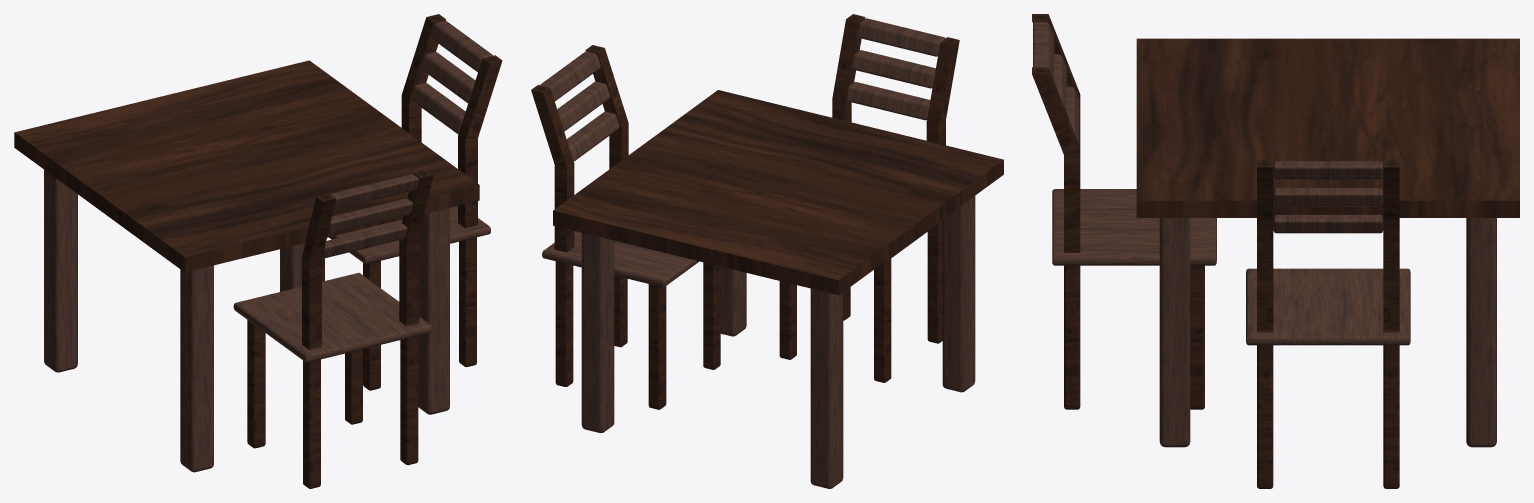
File: comedor.obj
3 views of the same model, side by side, from view 1: azimuth 30°, elevation 25°; view 2: azimuth 150°, elevation 25°; view 3: azimuth 270°, elevation 25° (orthographic). The views are drawn at different scales.
Visible parts, largest first — view 1: mesa, Plane.025, silla.002, Plane.022, Plane.023, Plane.027, Plane.026, Plane.030, Plane.024, silla.001; view 2: mesa, Plane.025, Plane.024, Plane.022, Plane.026, Plane.027, Plane.030, Plane.023, silla.001; view 3: mesa, Plane.025, silla.001, silla.002, Plane.030, Plane.027, Plane.024, Plane.022, Plane.023, Plane.026.
Part boxes in pixels (x1,y1,x2,y2): mesa: (14,60,479,272); Plane.025: (44,169,449,472); silla.002: (233,273,432,362); Plane.022: (247,320,418,488); Plane.023: (302,169,433,349); Plane.027: (401,14,502,228); Plane.026: (322,174,419,258); Plane.030: (411,21,492,134); Plane.024: (322,237,476,390); silla.001: (329,206,490,264); mesa: (553,90,1003,295); Plane.025: (581,196,975,488); Plane.024: (555,261,720,409); Plane.022: (779,221,942,382); Plane.026: (846,18,945,120); Plane.027: (531,45,628,252); Plane.030: (540,51,619,161); Plane.023: (832,14,959,145); silla.001: (542,231,699,287); mesa: (1136,38,1519,217); Plane.025: (1159,218,1496,447); silla.001: (1246,268,1410,345); silla.002: (1052,189,1216,265); Plane.030: (1273,161,1383,233); Plane.027: (1257,160,1399,332); Plane.024: (1257,345,1399,488); Plane.022: (1064,265,1204,409); Plane.023: (1032,14,1080,252); Plane.026: (1033,22,1079,144).
Bounding box in the file's own units: 1.26 × 0.9684 × 1.27.
Materials: 2 (2 with a texture image).
